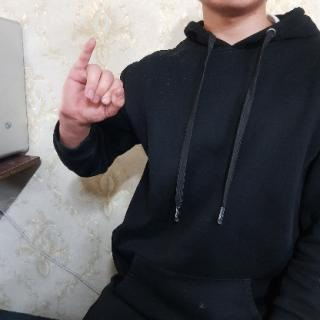MEEM: (56, 35, 130, 125)
